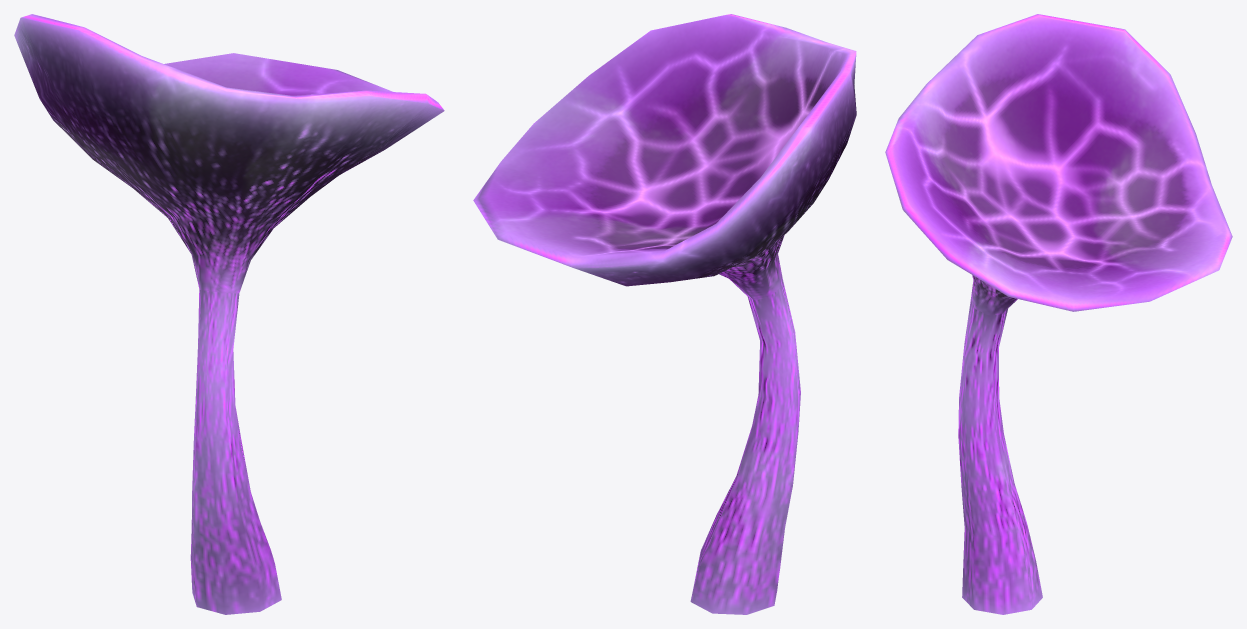
Rendered from 3 grib.fbx.
3 renders of one model, left to right at view 1: azimuth 30°, elevation 25°; view 2: azimuth 150°, elevation 25°; view 3: azimuth 270°, elevation 25°, orthographic. The views are drawn at different scales.
Visible parts, largest first — view 1: lp1.004; view 2: lp1.004; view 3: lp1.004.
Boxes of the visible parts, x1,y1,x2,y2 form: lp1.004: [14, 14, 444, 614]; lp1.004: [473, 14, 856, 614]; lp1.004: [885, 14, 1232, 614].
Bounding box in the file's own units: 4086 × 6556 × 3943.
